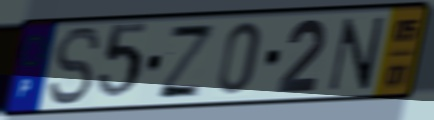0: (214, 19, 263, 100)
2: (274, 16, 330, 97)
5: (95, 21, 152, 108)
N: (325, 14, 388, 94)
S: (46, 24, 104, 109)
Z: (154, 23, 218, 100)
